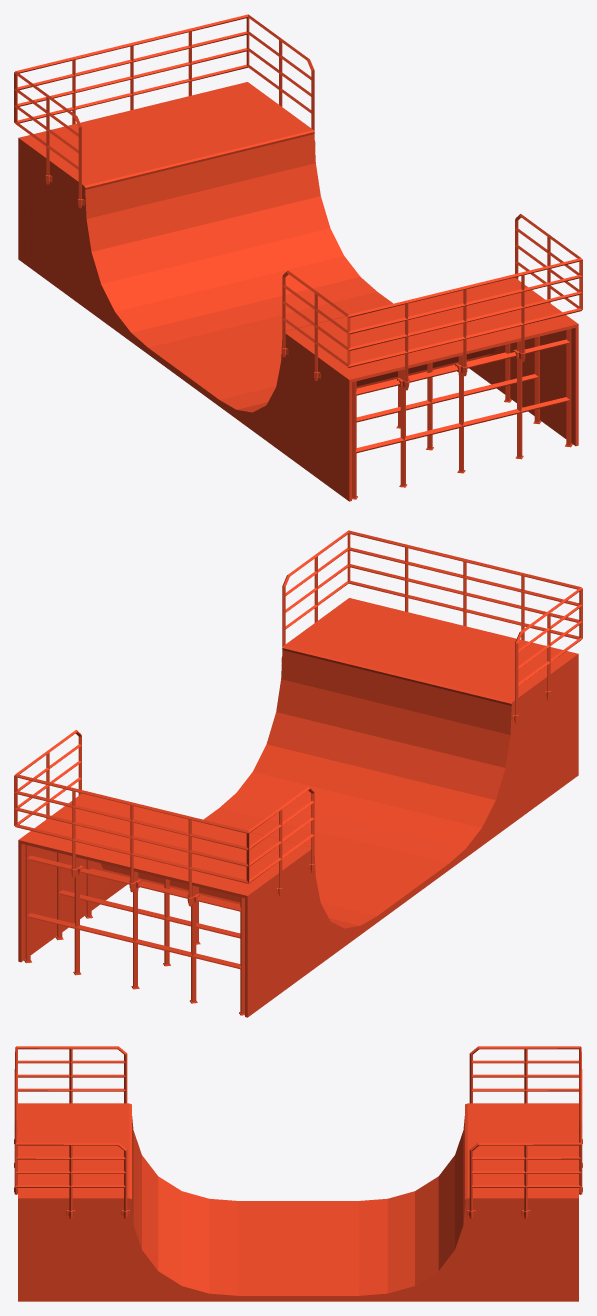
File: SM_Skate_Uramp_City.fbx
The picture shows the model from 3 angles, top to bottom: view 1: azimuth 30°, elevation 25°; view 2: azimuth 150°, elevation 25°; view 3: azimuth 270°, elevation 25°; orthographic projection. The views are drawn at different scales.
Visible parts, largest first — view 1: SM_Skate_Uramp_City; view 2: SM_Skate_Uramp_City; view 3: SM_Skate_Uramp_City.
Boxes of the visible parts, left/top/right/bottom form: SM_Skate_Uramp_City: left=14, top=14, right=582, bottom=501; SM_Skate_Uramp_City: left=14, top=530, right=582, bottom=1017; SM_Skate_Uramp_City: left=14, top=1046, right=582, bottom=1301.
Bounding box in the file's own units: 4.14 × 3.13 × 10.14.
